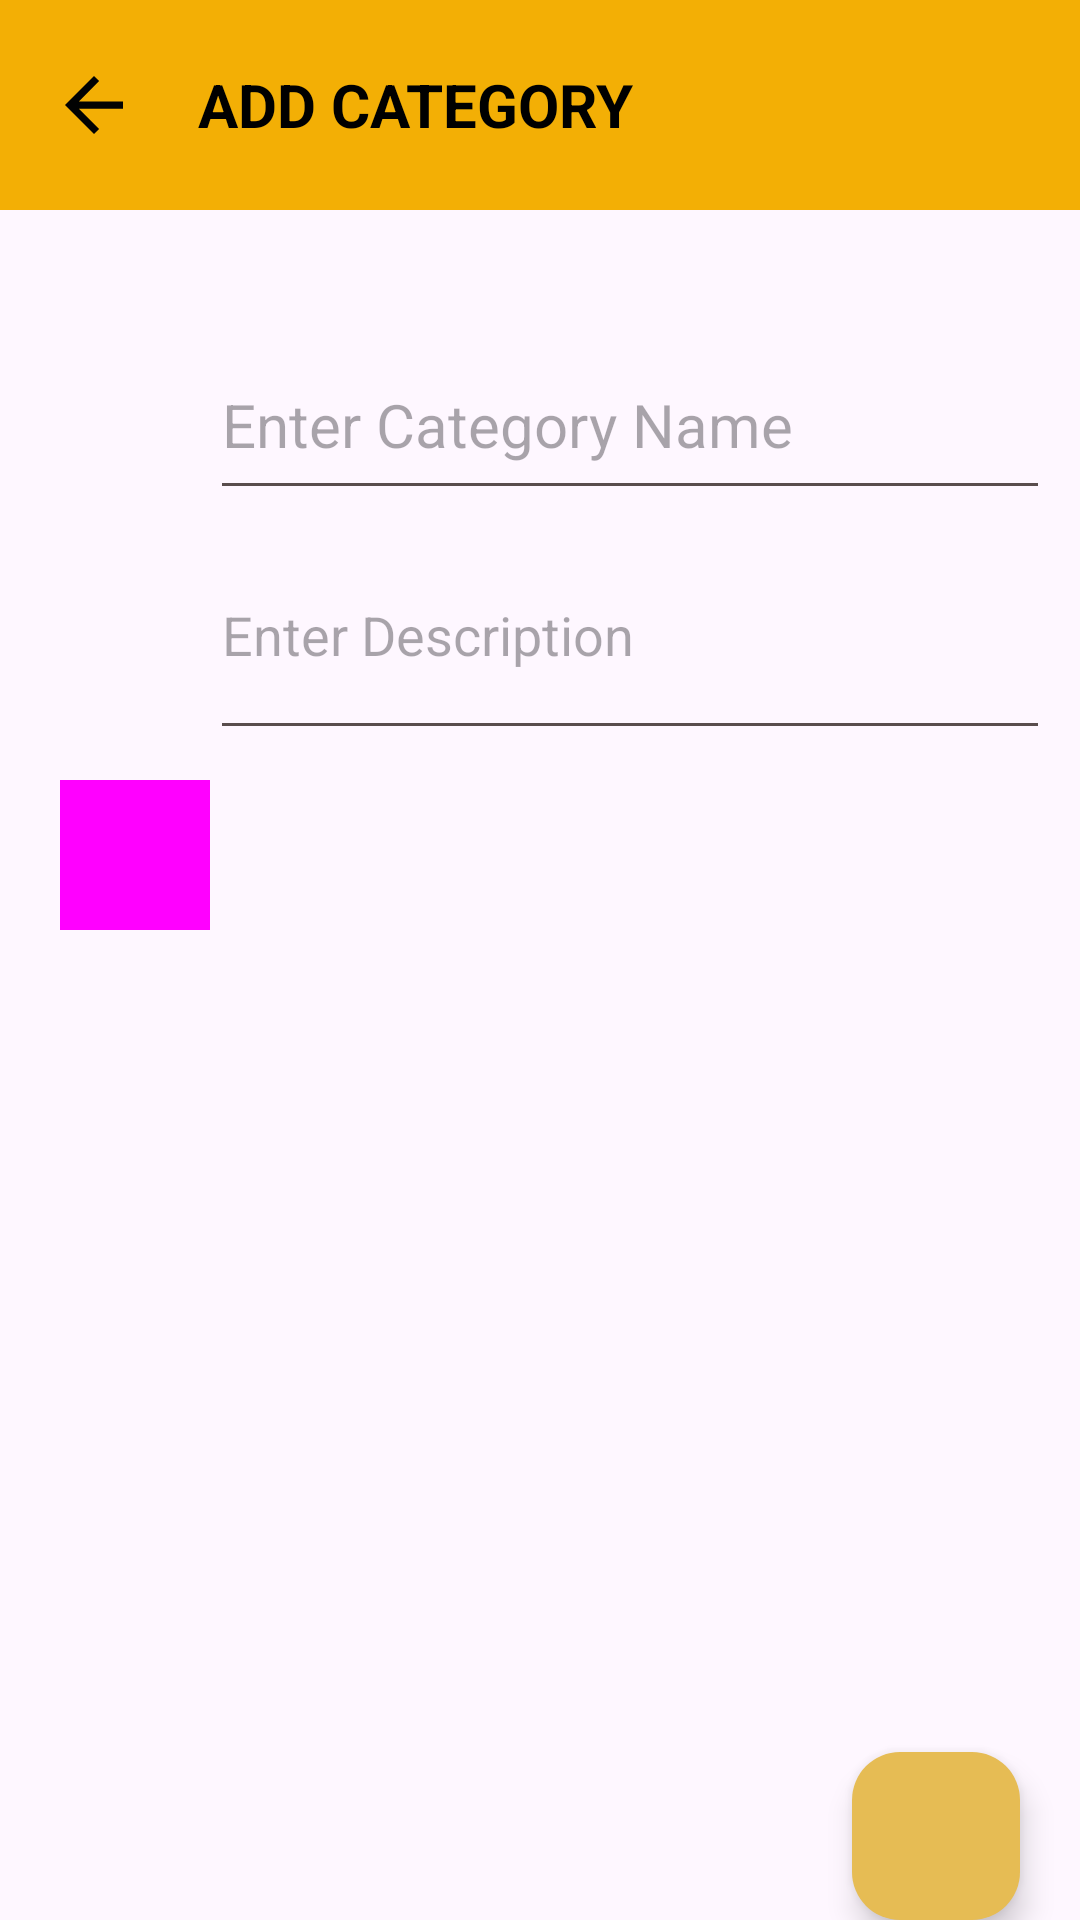

Named icons in this screenshot (1080px×1920px) and their bounding boxes, (x1, y1, x2, y2):
backarrow: (65, 76, 123, 134)
